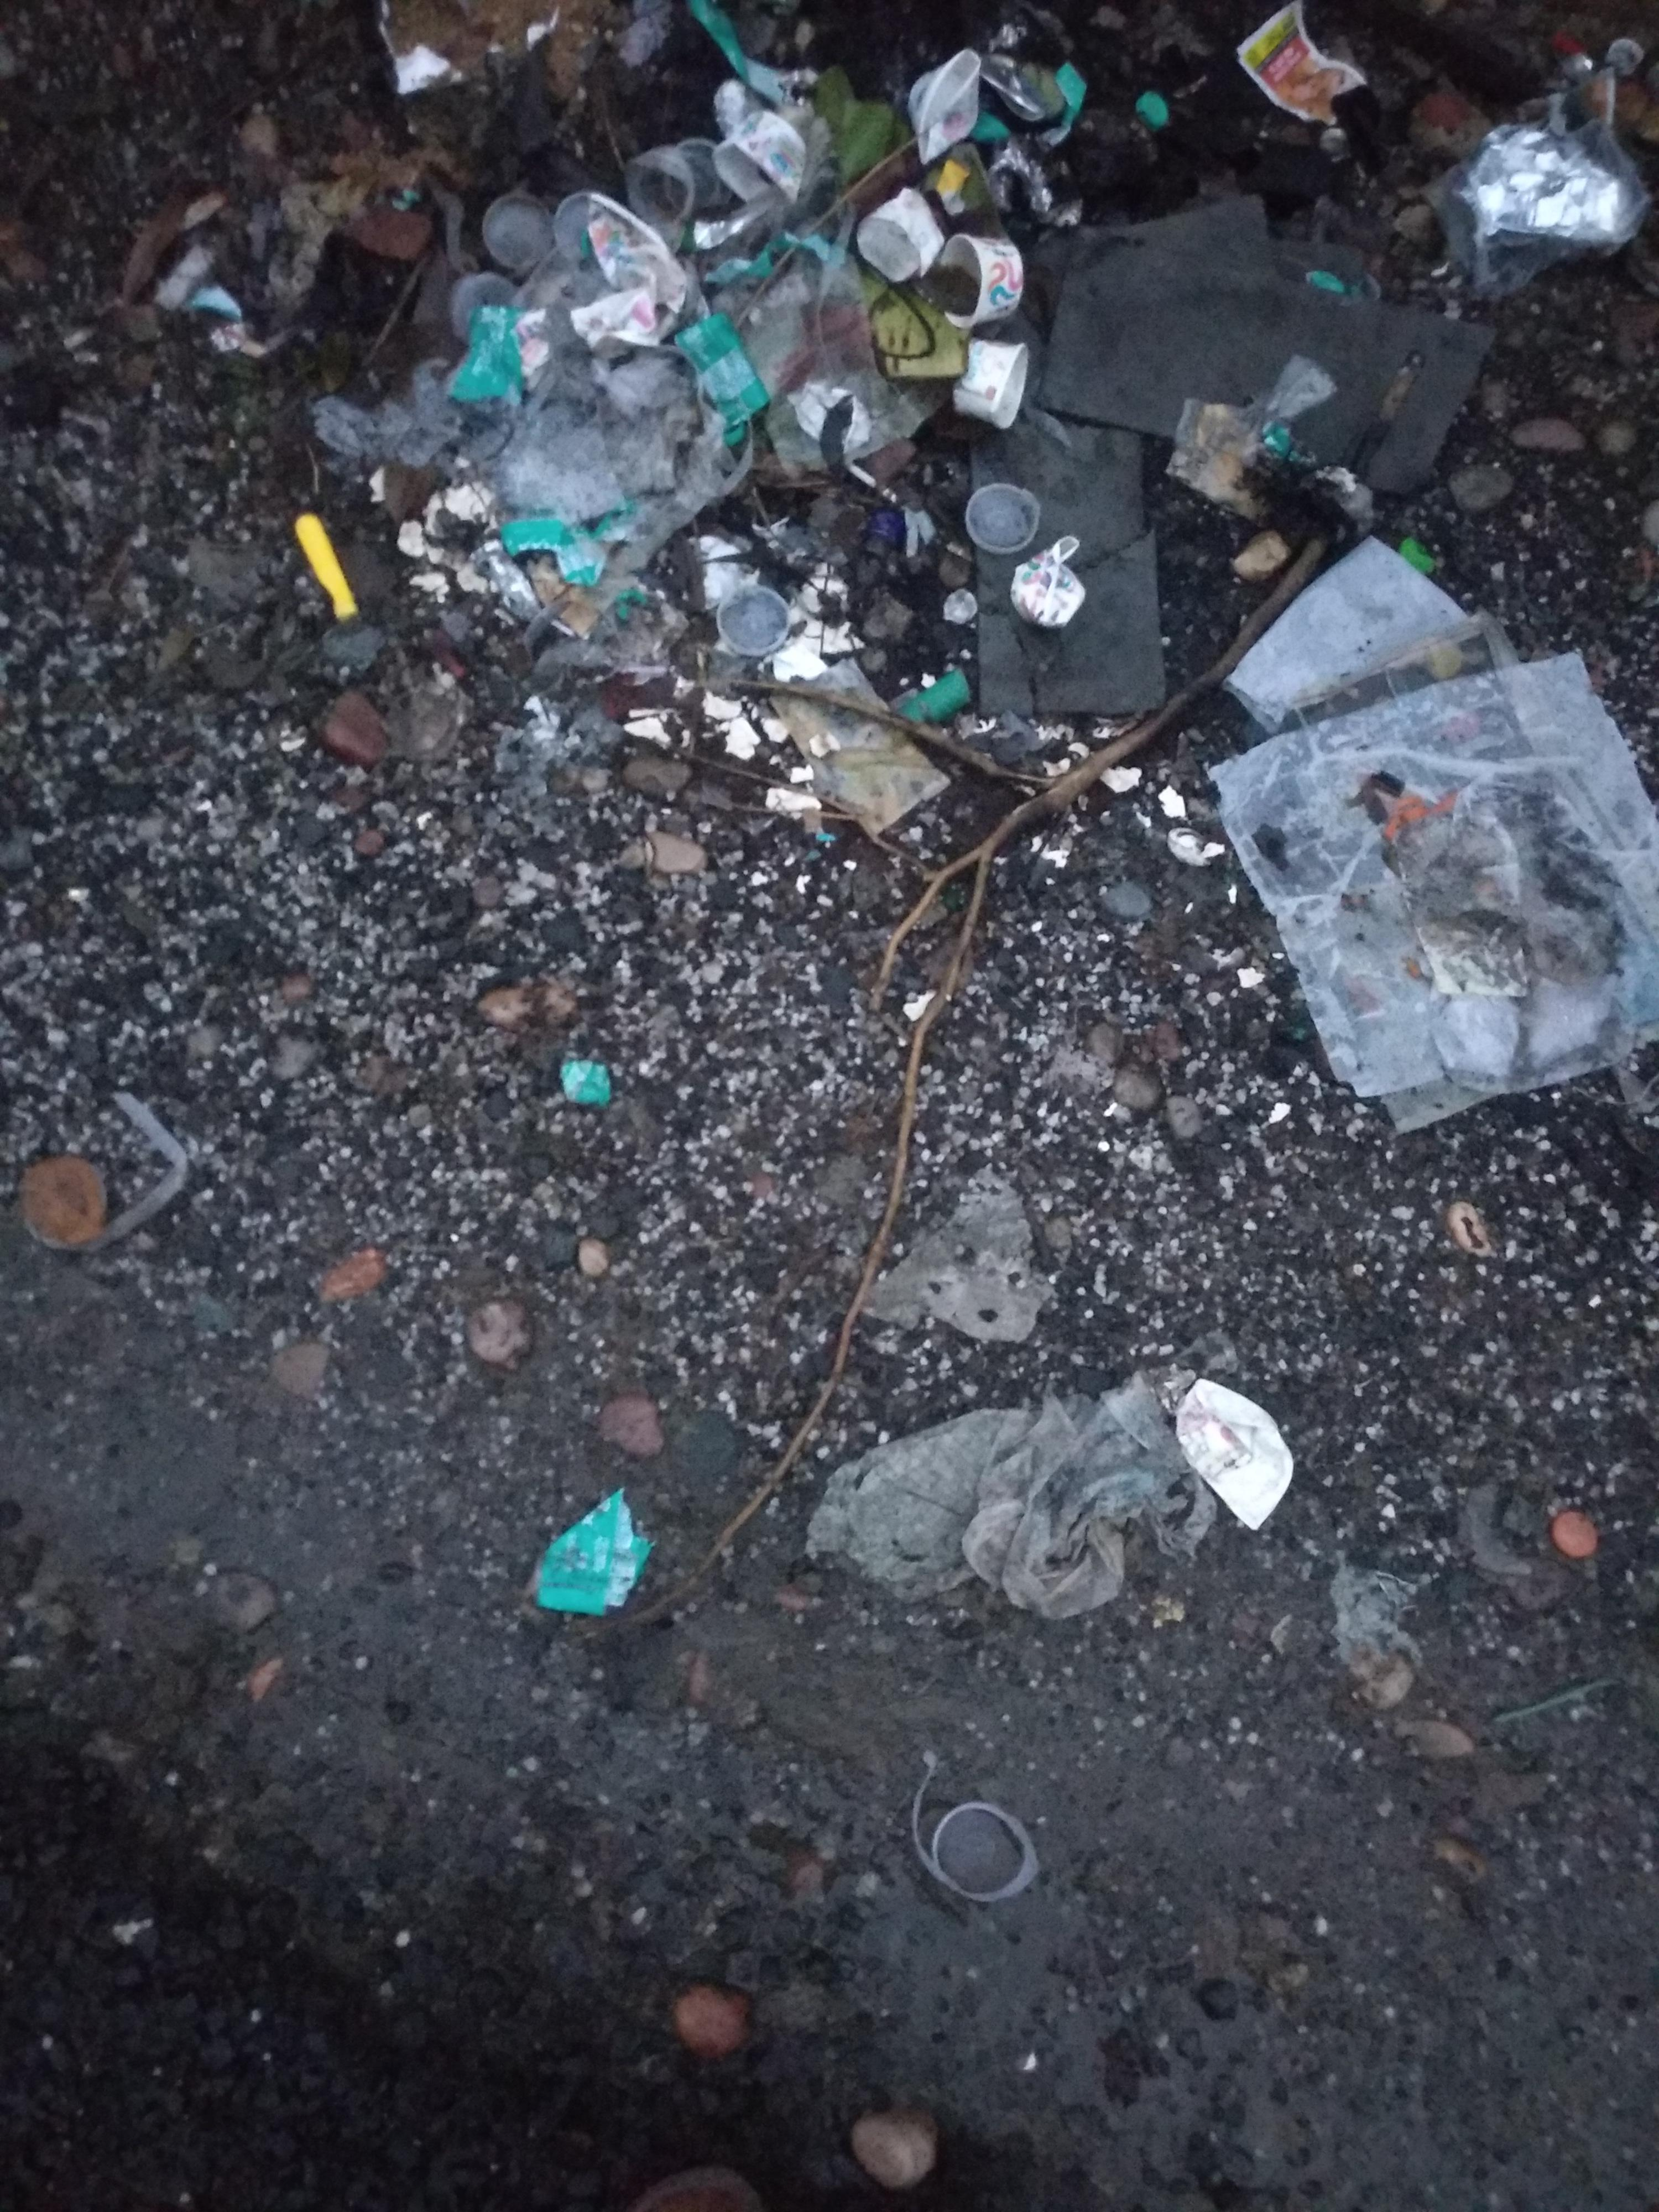organic: (281, 25, 1658, 1135)
